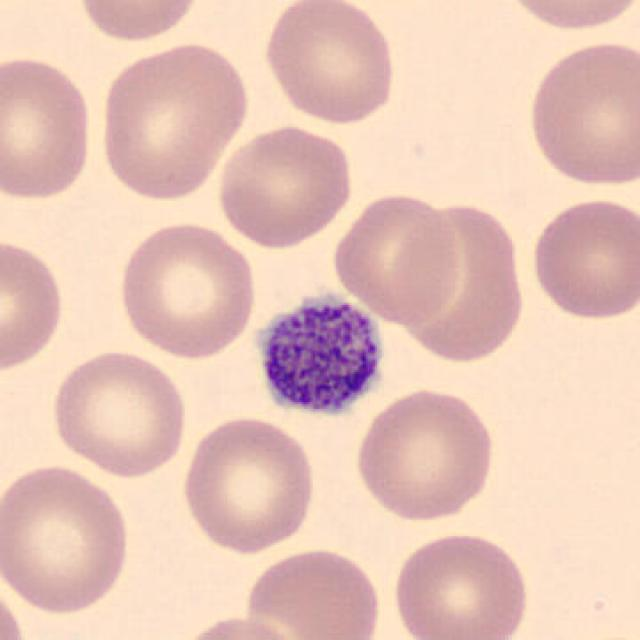platelets: (260, 290, 382, 419)
rbc: (101, 42, 247, 210), (109, 221, 264, 365), (395, 200, 529, 358), (359, 382, 499, 531), (3, 470, 131, 621), (180, 412, 312, 554), (376, 528, 535, 640), (520, 46, 640, 192), (338, 197, 466, 329), (263, 0, 397, 125), (53, 350, 188, 474), (219, 126, 352, 251), (0, 43, 98, 206), (527, 197, 640, 326), (246, 551, 399, 640), (0, 222, 64, 372), (70, 0, 203, 48), (514, 0, 637, 37), (196, 611, 292, 640), (0, 583, 28, 640)
